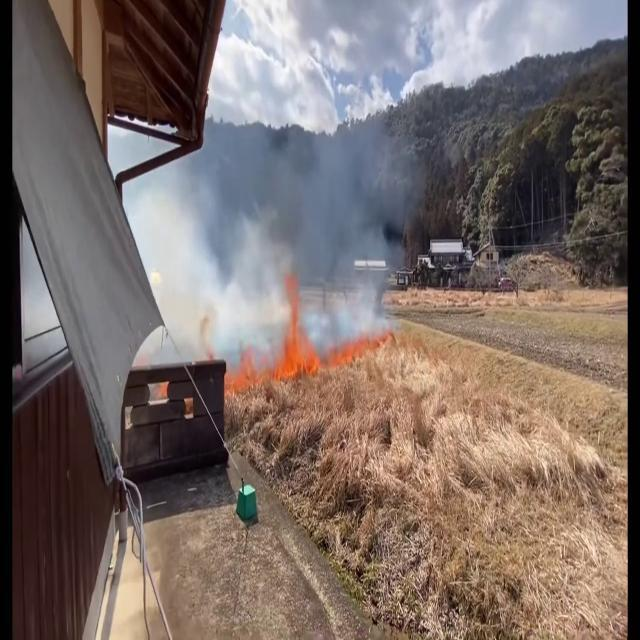Fire: (237, 271, 317, 400), (331, 328, 393, 378)
Smoke: (161, 65, 413, 369)
